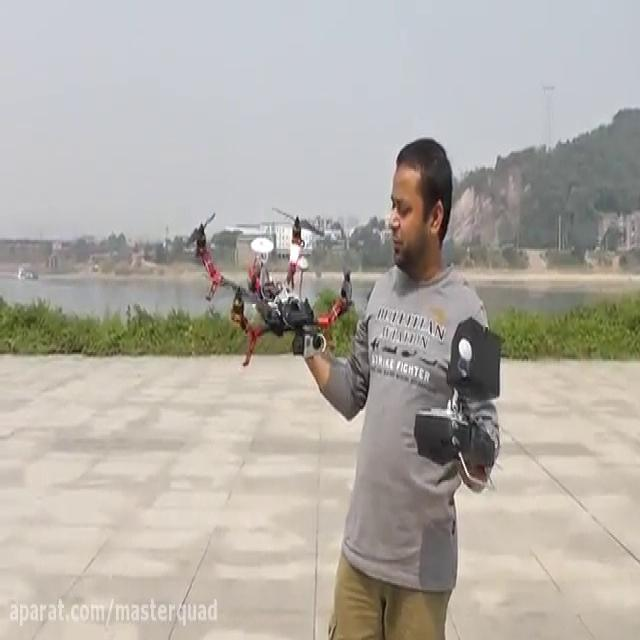drone: (182, 199, 355, 370)
